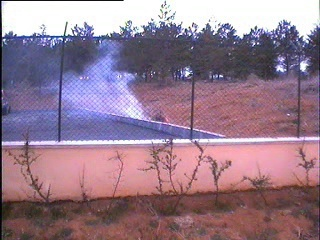smoke: (64, 39, 152, 120)
